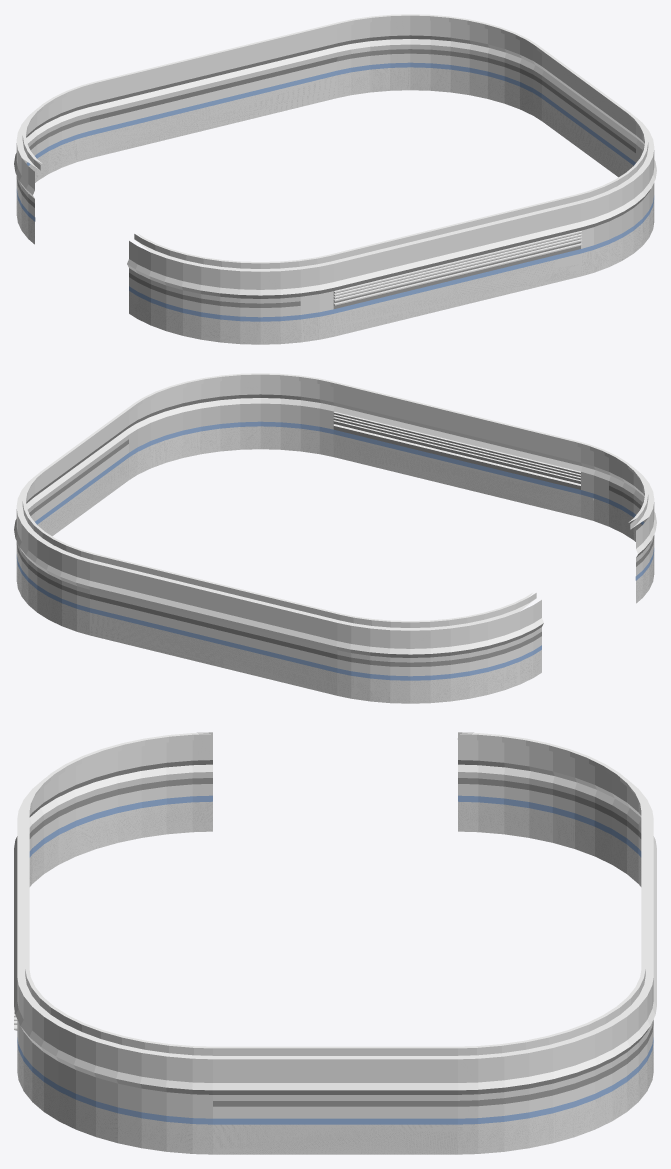
File: stadium_v5.glb
The picture shows the model from 3 angles, top to bottom: view 1: azimuth 30°, elevation 25°; view 2: azimuth 150°, elevation 25°; view 3: azimuth 270°, elevation 25°; orthographic projection. The views are drawn at different scales.
Visible parts, largest first — view 1: SketchUp.1486; view 2: SketchUp.1486; view 3: SketchUp.1486.
Part boxes in pixels (x1,y1,x2,y2): SketchUp.1486: [14, 14, 656, 344]; SketchUp.1486: [14, 373, 656, 703]; SketchUp.1486: [14, 732, 656, 1154].
Size of the model in its own units: 235 by 34.6 by 196.
Materials: 6 (1 with a texture image).
